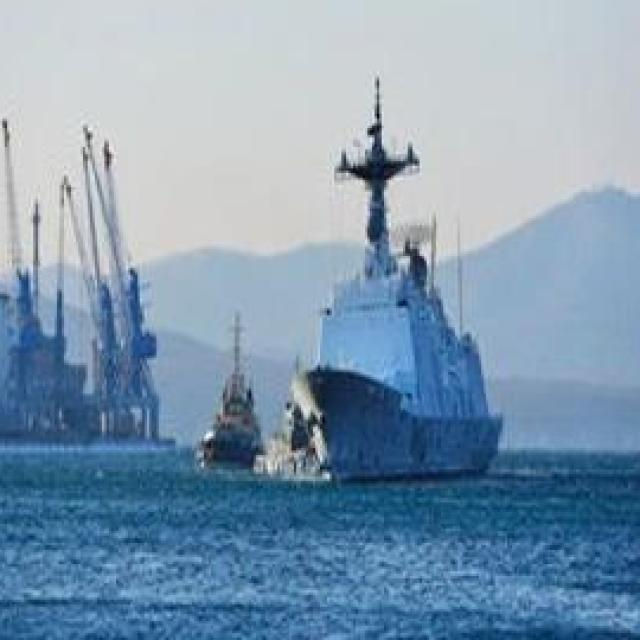navalvessels: (292, 73, 503, 480), (194, 306, 262, 470), (264, 356, 324, 483)
